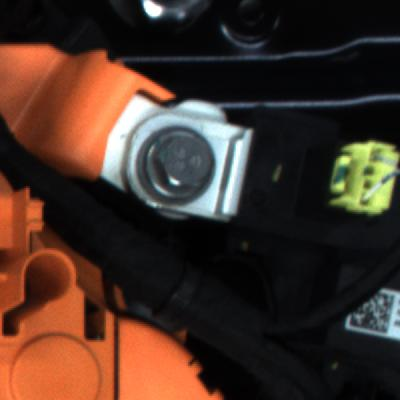nut_b: (134, 122, 237, 233)
